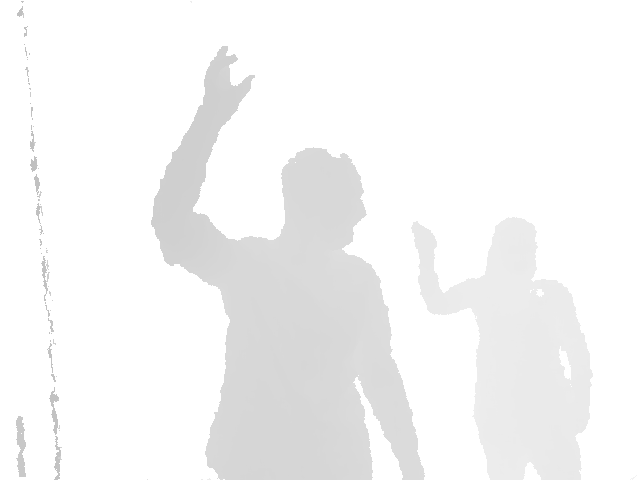hand: (202, 46, 256, 115), (411, 219, 438, 263)
head: (279, 146, 367, 252), (487, 216, 537, 283)
person: (150, 46, 429, 480), (411, 216, 595, 480)
